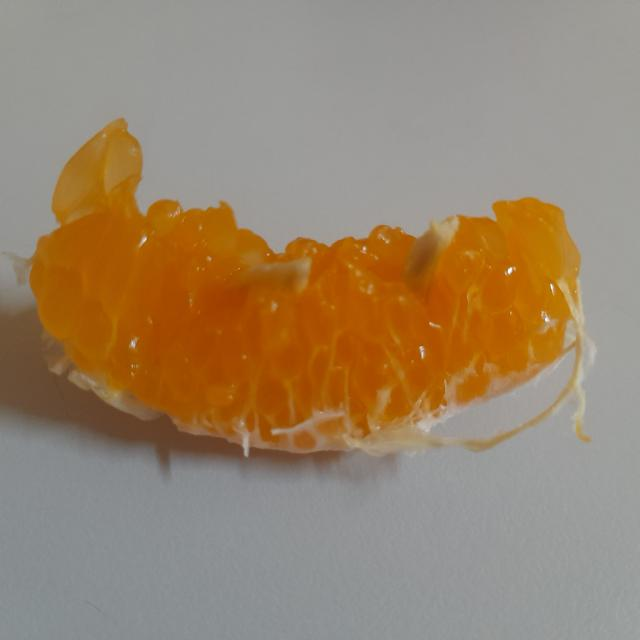Cam: (29, 114, 593, 490)
